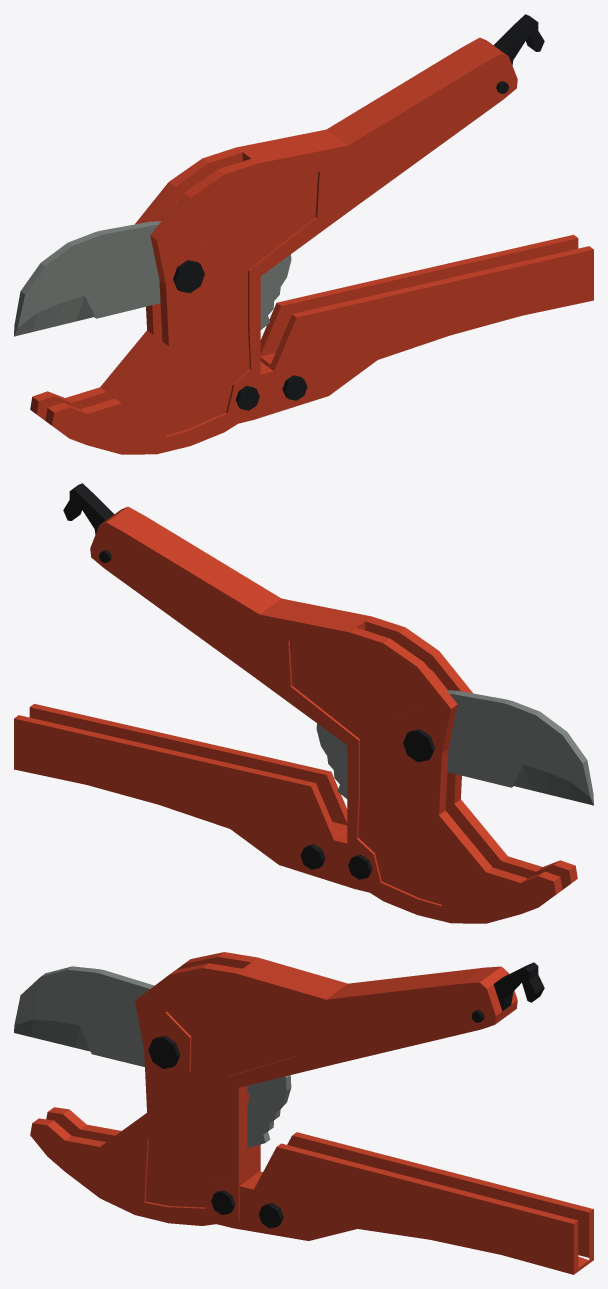
Rendered from SM_Pipe_Cutter.gltf.
3 renders of one model, top to bottom at view 1: azimuth 30°, elevation 25°; view 2: azimuth 150°, elevation 25°; view 3: azimuth 330°, elevation 25°, orthographic.
Visible parts, largest first — view 1: SM_Pipe_Cutter, HOLDER_FOR_Pipe_Cutter, BLADE_FOR_Pipe_Cutter; view 2: SM_Pipe_Cutter, HOLDER_FOR_Pipe_Cutter, BLADE_FOR_Pipe_Cutter; view 3: SM_Pipe_Cutter, HOLDER_FOR_Pipe_Cutter, BLADE_FOR_Pipe_Cutter.
Boxes of the visible parts, x1,y1,x2,y2 form: SM_Pipe_Cutter: (30,14,544,454); HOLDER_FOR_Pipe_Cutter: (239,234,593,423); BLADE_FOR_Pipe_Cutter: (14,221,291,336); SM_Pipe_Cutter: (63,483,577,923); HOLDER_FOR_Pipe_Cutter: (14,703,368,892); BLADE_FOR_Pipe_Cutter: (316,690,593,805); SM_Pipe_Cutter: (30,952,544,1225); HOLDER_FOR_Pipe_Cutter: (216,1132,593,1274); BLADE_FOR_Pipe_Cutter: (14,966,291,1148).
Bounding box in the file's own units: 0.321 × 0.1805 × 0.0266.
